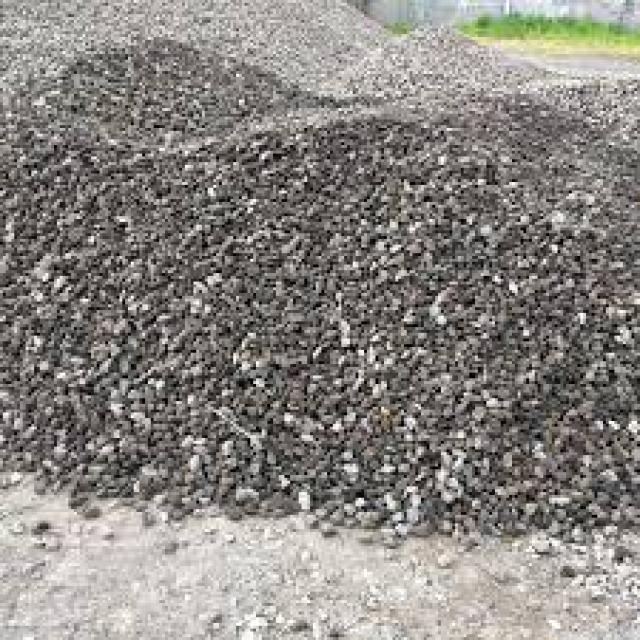Pecahan Agregat: (48, 64, 600, 502)
